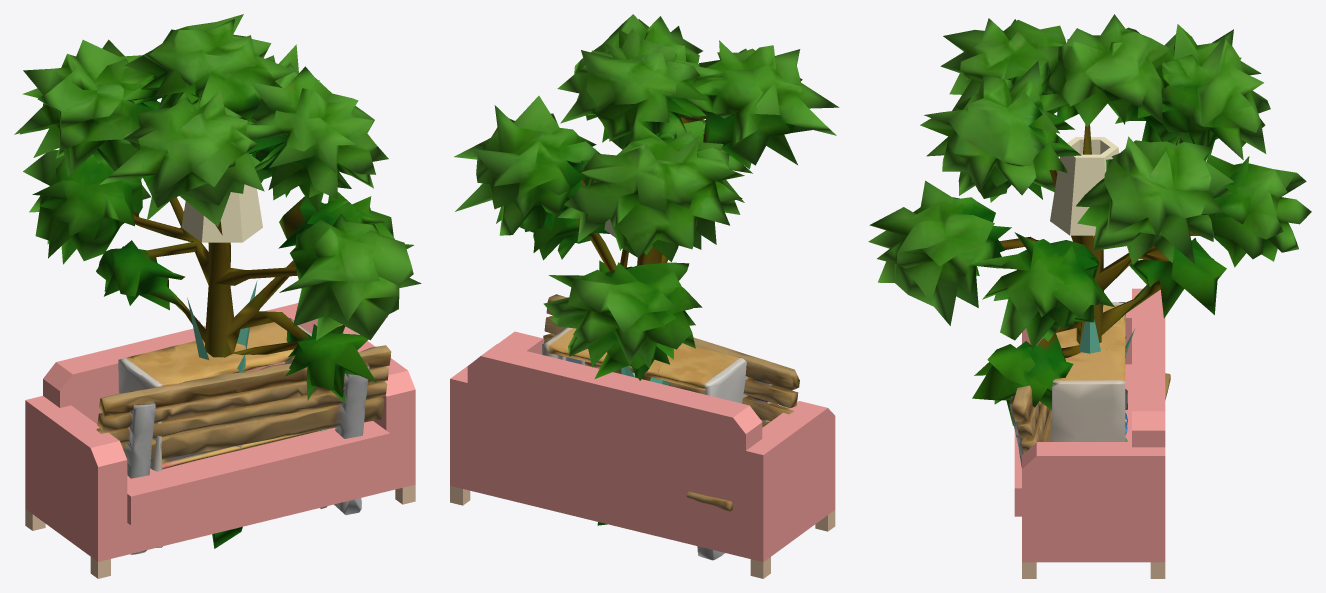
Rendered from concourse.glb.
The picture shows the model from 3 angles, left to right: view 1: azimuth 30°, elevation 25°; view 2: azimuth 150°, elevation 25°; view 3: azimuth 270°, elevation 25°; orthographic projection.
Parts seen in each view (by area): view 1: tripo_node_372ec923-6b8c-436f-bfe3-d535e4c8f5d8, loungeSofa(Clone), tripo_node_33b04e90-58e0-4bff-825d-5aef90048330, tripo_node_8f7540cc-6acb-4ecb-ad99-afb43d67dd90, lampRoundFloor(Clone), pottedPlant(Clone); view 2: tripo_node_372ec923-6b8c-436f-bfe3-d535e4c8f5d8, loungeSofa(Clone), tripo_node_8f7540cc-6acb-4ecb-ad99-afb43d67dd90, tripo_node_33b04e90-58e0-4bff-825d-5aef90048330; view 3: tripo_node_372ec923-6b8c-436f-bfe3-d535e4c8f5d8, loungeSofa(Clone), tripo_node_8f7540cc-6acb-4ecb-ad99-afb43d67dd90, lampRoundFloor(Clone), tripo_node_33b04e90-58e0-4bff-825d-5aef90048330, pottedPlant(Clone).
Part boxes in pixels (x1,y1,x2,y2): tripo_node_372ec923-6b8c-436f-bfe3-d535e4c8f5d8: [14, 14, 421, 548]; loungeSofa(Clone): [25, 303, 415, 578]; tripo_node_33b04e90-58e0-4bff-825d-5aef90048330: [96, 345, 391, 554]; tripo_node_8f7540cc-6acb-4ecb-ad99-afb43d67dd90: [118, 318, 327, 547]; lampRoundFloor(Clone): [181, 154, 262, 242]; pottedPlant(Clone): [187, 280, 257, 450]; tripo_node_372ec923-6b8c-436f-bfe3-d535e4c8f5d8: [454, 14, 839, 525]; loungeSofa(Clone): [450, 331, 835, 578]; tripo_node_8f7540cc-6acb-4ecb-ad99-afb43d67dd90: [542, 327, 748, 403]; tripo_node_33b04e90-58e0-4bff-825d-5aef90048330: [543, 294, 799, 560]; tripo_node_372ec923-6b8c-436f-bfe3-d535e4c8f5d8: [868, 14, 1311, 425]; loungeSofa(Clone): [1014, 288, 1165, 578]; tripo_node_8f7540cc-6acb-4ecb-ad99-afb43d67dd90: [1052, 302, 1127, 441]; lampRoundFloor(Clone): [1050, 137, 1119, 237]; tripo_node_33b04e90-58e0-4bff-825d-5aef90048330: [1009, 337, 1170, 467]; pottedPlant(Clone): [1079, 319, 1134, 422].
Bounding box in the file's own units: 2.21 × 3.2 × 2.71.
Materials: 4 (4 with a texture image).
